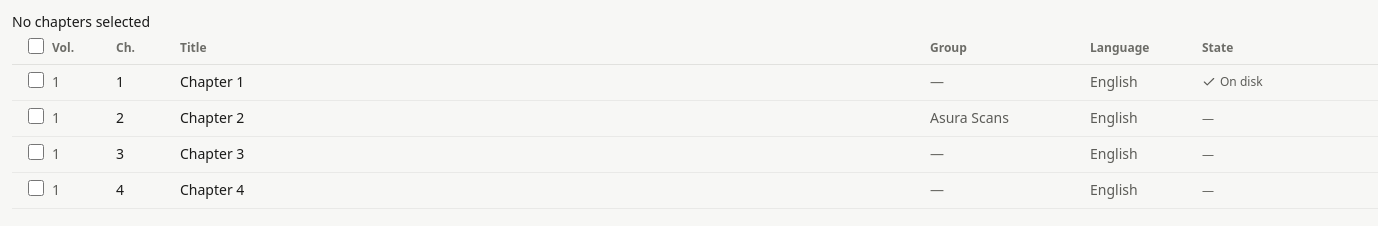
it: ChaptersTable selection › the row checkbox toggles without selecting a range
Click the checkbox named "Select chapter 2". click: click(36, 116)
box: [28,108,44,124]
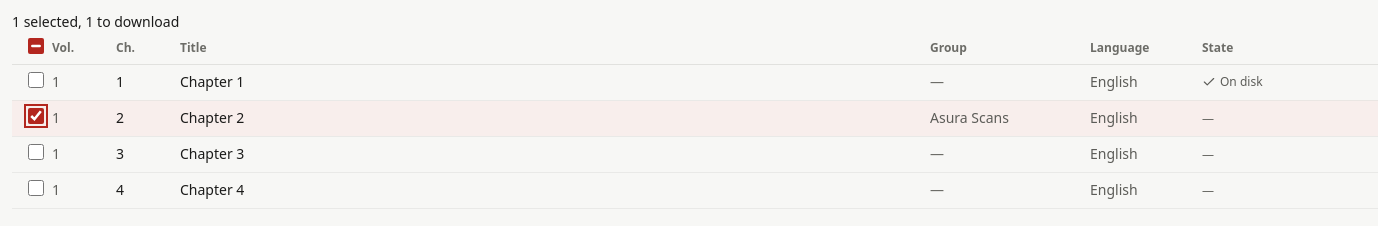
Expected: the checkbox named "Select chapter 2" is checked, [28,108,44,124]
Expected: the text with test id "summary" reads "1 selected, 1 to download", [12,12,179,31]
